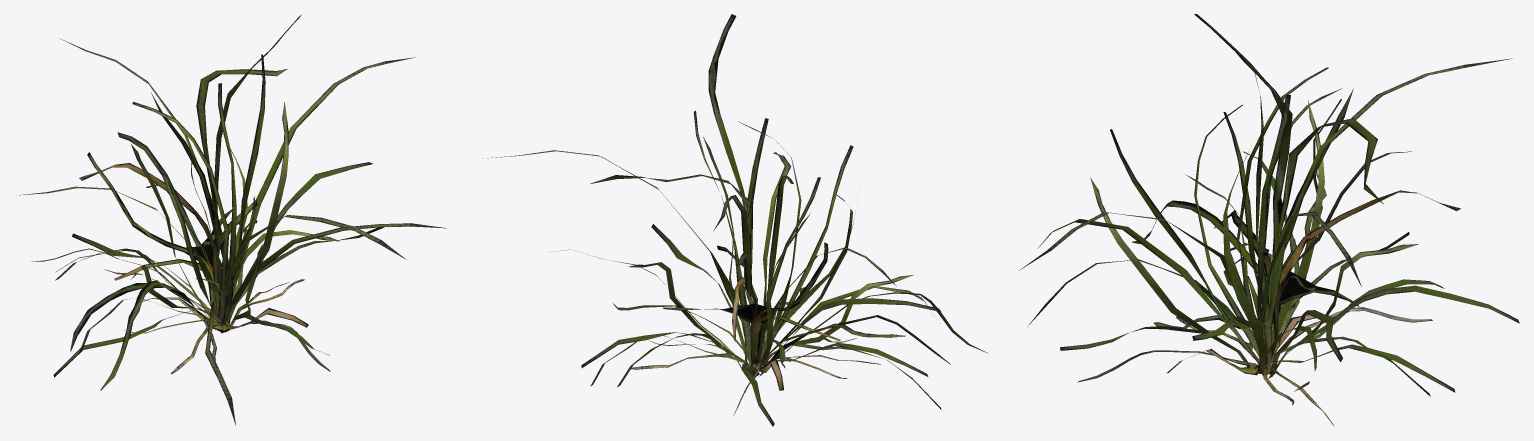
File: grass_medium_01.glb
3 renders of one model, left to right at view 1: azimuth 30°, elevation 25°; view 2: azimuth 150°, elevation 25°; view 3: azimuth 270°, elevation 25°, orthographic. The views are drawn at different scales.
Visible parts, largest first — view 1: grass_medium_01_small_a_LOD0; view 2: grass_medium_01_small_a_LOD0; view 3: grass_medium_01_small_a_LOD0.
Part boxes in pixels (x1=…): grass_medium_01_small_a_LOD0: x1=19, y1=14, x2=446, y2=425; grass_medium_01_small_a_LOD0: x1=483, y1=14, x2=988, y2=426; grass_medium_01_small_a_LOD0: x1=1019, y1=14, x2=1519, y2=426.
Bounding box in the file's own units: 0.1848 × 0.1404 × 0.1623.
Materials: 1 (1 with a texture image).
